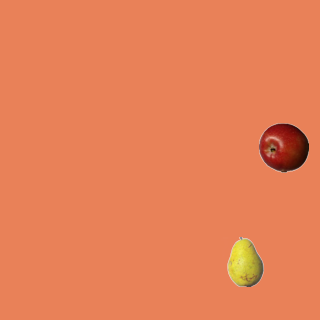Apple Braeburn: (258, 122, 308, 172)
Pear Monster: (220, 236, 270, 286)
